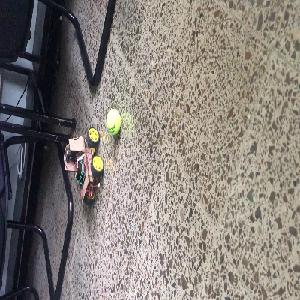Ball: (106, 109, 120, 135)
Robot: (62, 128, 103, 206)
